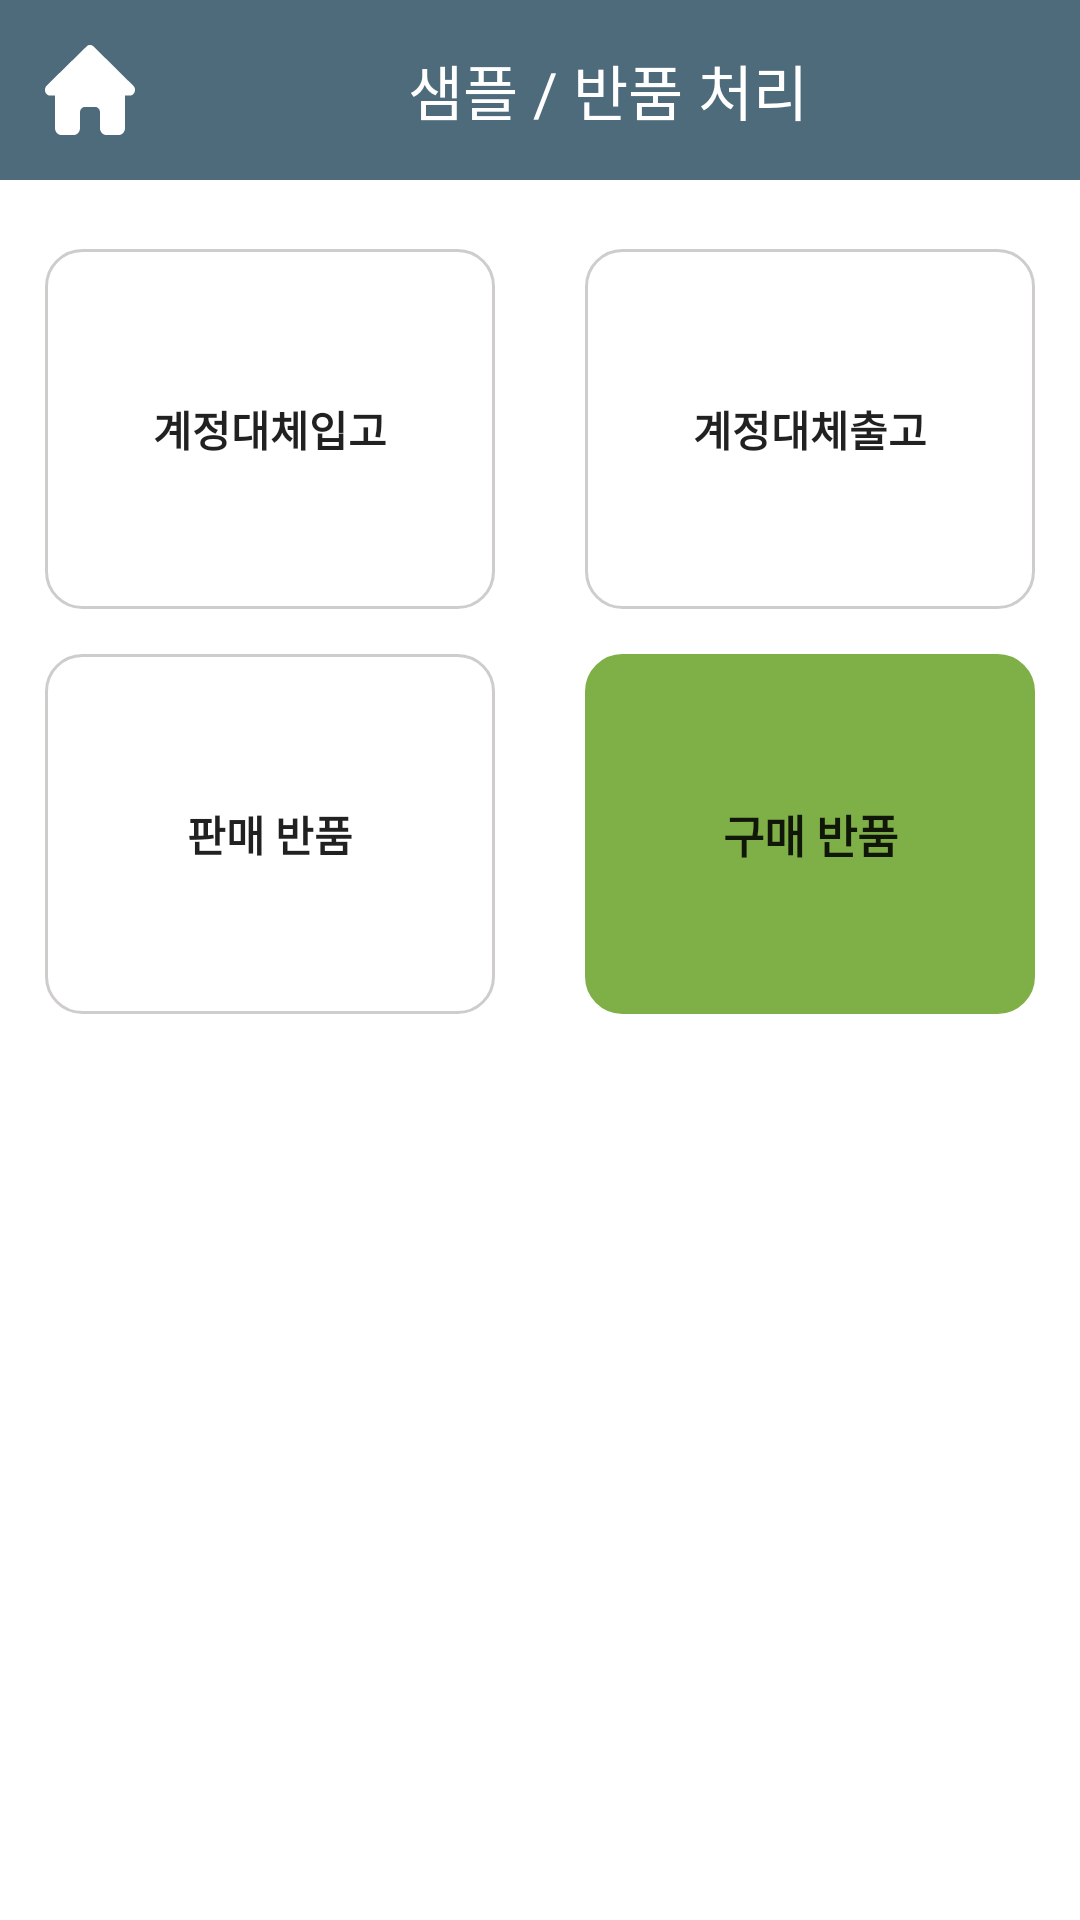

Icons on this 1080w x 1920h Android screen, each with its box as (x1, y1, x2, y2):
house: (45, 45, 135, 135)
